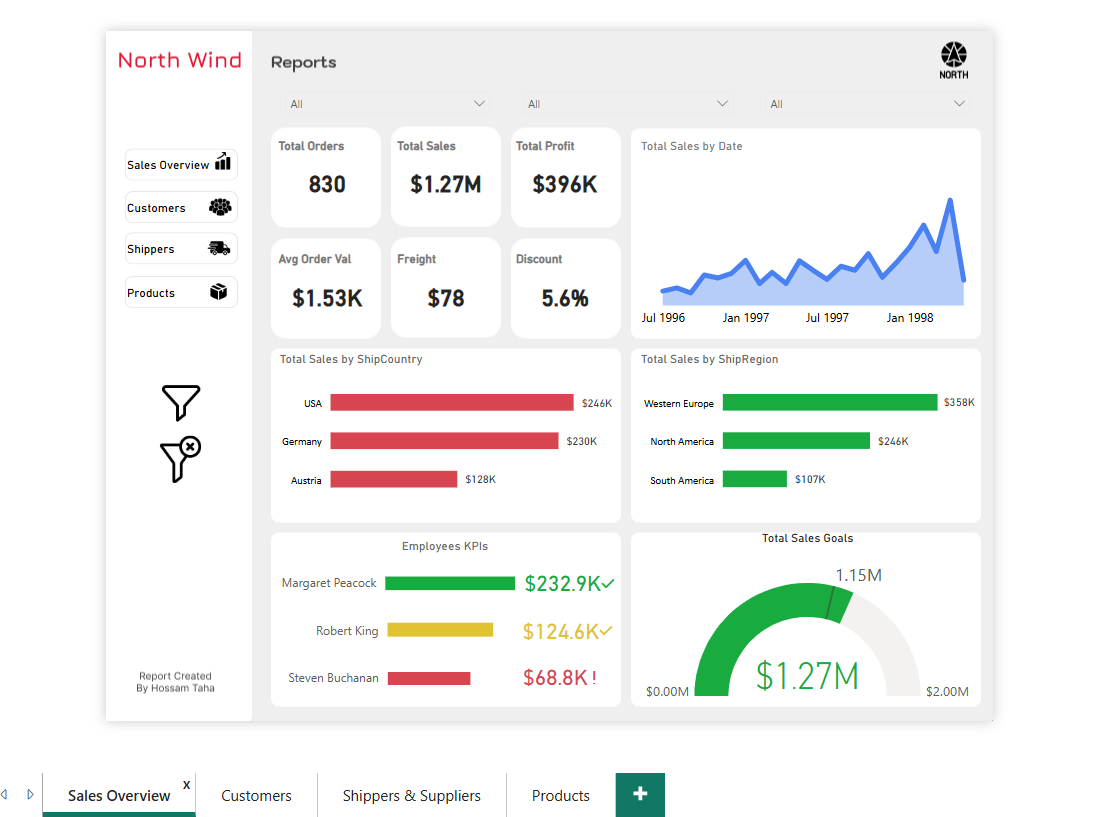

Layout of this report page (visuals, bound fields, positions):
{"tool":"powerbi","page":{"name":"Sales Overview","canvas":[887,690],"ordinal":0},"visuals":[{"type":"card","title":"Total Orders","fields":{"Values":["Orders (2).Total Orders"]},"box":[167.8,107.7,107.8,76.7],"z":0,"group":"g1"},{"type":"shape","box":[18.9,117.7,113.3,32.2],"z":0,"group":"g3"},{"type":"card","title":"Freight","fields":{"Values":["Orders (2).Avg Freight"]},"box":[286.7,221.1,107.8,76.7],"z":0},{"type":"kpi","fields":{"TrendLine":["Employees_1.FullName"],"Indicator":["Orders (2).Total Sales"],"Goal":["Orders (2).Target Sales"]},"box":[398.8,527.8,129.3,62],"z":0,"group":"g5"},{"type":"card","title":"Total Sales","fields":{"Values":["Orders (2).Total Sales"]},"box":[286.7,107.7,107.8,76.7],"z":1000,"group":"g1"},{"type":"shape","box":[18.9,161,113.3,32.2],"z":1000,"group":"g3"},{"type":"card","title":"Avg Order Val","fields":{"Values":["Orders (2).Avg Order Value"]},"box":[167.8,221.1,107.8,76.7],"z":1000},{"type":"kpi","fields":{"TrendLine":["Employees_1.FullName"],"Indicator":["Orders (2).Total Sales"],"Goal":["Orders (2).Target Sales"]},"box":[392.4,627.1,129.3,57.6],"z":1000,"group":"g5"},{"type":"card","title":"Total Profit","fields":{"Values":["Order_Details.Total Profit"]},"box":[405.6,107.7,107.8,76.7],"z":2000,"group":"g1"},{"type":"shape","box":[18.9,202.2,113.3,32.2],"z":2000,"group":"g3"},{"type":"card","title":"Discount","fields":{"Values":["Order_Details.Avg Discount"]},"box":[405.6,221.1,107.8,76.7],"z":2000},{"type":"kpi","fields":{"TrendLine":["Employees_1.FullName"],"Indicator":["Orders (2).Total Sales"],"Goal":["Orders (2).Target Sales"]},"box":[394.6,583.7,135.9,53.3],"z":2000,"group":"g5"},{"type":"group","id":"g1","title":"Group 4","box":[18.9,107.6,867.9,577.1],"z":3000},{"type":"shape","box":[18.9,245.5,113.3,32.2],"z":3000,"group":"g3"},{"type":"barChart","fields":{"Category":["Orders (2).ShipCountry"],"Y":["Orders (2).Total Sales"]},"box":[168.5,321.3,344.4,158.3],"z":3000,"group":"g1"},{"type":"barChart","fields":{"Category":["Employees_1.FullName"],"Y":["Orders (2).Total Sales"]},"box":[163.1,514.1,289.1,69.6],"z":3000,"group":"g5"},{"type":"slicer","fields":{"Values":["Orders.ShipRegion Hierarchy.ShipRegion","Orders.ShipRegion Hierarchy.ShipCountry","Orders.ShipRegion Hierarchy.ShipCity"]},"box":[168.3,50,225.8,45.8],"z":4000},{"type":"stackedAreaChart","title":"Total Sales by Date","fields":{"Category":["Orders (2).ShippedDate.Variation.Date Hierarchy.Year","Orders (2).ShippedDate.Variation.Date Hierarchy.Quarter","Orders (2).ShippedDate.Variation.Date Hierarchy.Month","Orders (2).ShippedDate.Variation.Date Hierarchy.Day"],"Y":["Orders (2).Total Sales"]},"box":[529.9,107.6,356.9,197.2],"z":4000,"group":"g1"},{"type":"image","box":[101,115.5,31.3,30.2],"z":4000,"group":"g3"},{"type":"barChart","fields":{"Category":["Employees_1.FullName"],"Y":["Orders (2).Total Sales"]},"box":[199,565.2,215.2,62],"z":4000,"group":"g5"},{"type":"slicer","fields":{"Values":["Orders.ShippedDate.Variation.Date Hierarchy.Year","Orders.ShippedDate.Variation.Date Hierarchy.Quarter","Orders.ShippedDate.Variation.Date Hierarchy.Month","Orders.ShippedDate.Variation.Date Hierarchy.Day"]},"box":[406.2,50,231.2,41.2],"z":5000},{"type":"image","box":[98,160.8,34.2,32.2],"z":5000,"group":"g3"},{"type":"barChart","fields":{"Category":["Orders (2).ShipRegion"],"Y":["Orders (2).Total Sales"]},"box":[530,322,344,158],"z":5000,"group":"g1"},{"type":"barChart","fields":{"Category":["Employees_1.FullName"],"Y":["Orders (2).Total Sales"]},"box":[170.8,610.8,213,67.4],"z":5000,"group":"g5"},{"type":"slicer","fields":{"Values":["Employees.FullName"]},"box":[648.3,50,225.8,45.8],"z":6000},{"type":"image","box":[94.1,202,38.1,32.2],"z":6000,"group":"g3"},{"type":"gauge","title":"Total Sales Goals","fields":{"Y":["Orders.Total Sales"],"TargetValue":["Orders.Goal Sales"]},"box":[530.4,500,343.5,184.8],"z":6000,"group":"g1"},{"type":"image","box":[94.1,245.3,38.1,31.2],"z":7000,"group":"g3"},{"type":"group","id":"g2","title":"Group 5","box":[32.2,344.4,84.4,113.3],"z":7000,"group":"g1"},{"type":"group","id":"g3","title":"Group 2","box":[18.9,115.5,113.3,162.2],"z":8000,"group":"g1"},{"type":"image","box":[38.9,344.4,72.2,55.6],"z":9000,"group":"g2"},{"type":"group","id":"g4","title":"Group 3","box":[163.1,500,367.4,184.8],"z":9000,"group":"g1"},{"type":"group","id":"g5","title":"Group 1","box":[163.1,514.1,367.4,170.7],"z":9000,"group":"g4"},{"type":"image","box":[32.2,401.1,84.4,56.7],"z":10000,"group":"g2"},{"type":"textbox","box":[278.3,500,122.8,34.8],"z":10000,"group":"g4"}]}

Visuals, with their boxes on the page's 887x690 design canvas (x1, y1, x2, y2). These are canvas units, not pixel positions in the 1120x817 screenshot, which may show the page scaled, cropped or inside an application window:
"Total Orders" card: rect(168, 108, 276, 184)
shape: rect(19, 118, 132, 150)
"Freight" card: rect(287, 221, 394, 298)
kpi - Employees_1.FullName x Orders (2).Total Sales: rect(399, 528, 528, 590)
"Total Sales" card: rect(287, 108, 394, 184)
shape: rect(19, 161, 132, 193)
"Avg Order Val" card: rect(168, 221, 276, 298)
kpi - Employees_1.FullName x Orders (2).Total Sales: rect(392, 627, 522, 685)
"Total Profit" card: rect(406, 108, 513, 184)
shape: rect(19, 202, 132, 234)
"Discount" card: rect(406, 221, 513, 298)
kpi - Employees_1.FullName x Orders (2).Total Sales: rect(395, 584, 530, 637)
"Group 4" group: rect(19, 108, 887, 685)
shape: rect(19, 246, 132, 278)
barChart - Orders (2).ShipCountry x Orders (2).Total Sales: rect(168, 321, 513, 480)
barChart - Employees_1.FullName x Orders (2).Total Sales: rect(163, 514, 452, 584)
slicer - Orders.ShipRegion Hierarchy.ShipRegion x Orders.ShipRegion Hierarchy.ShipCountry: rect(168, 50, 394, 96)
"Total Sales by Date" stackedAreaChart: rect(530, 108, 887, 305)
image: rect(101, 116, 132, 146)
barChart - Employees_1.FullName x Orders (2).Total Sales: rect(199, 565, 414, 627)
slicer - Orders.ShippedDate.Variation.Date Hierarchy.Year x Orders.ShippedDate.Variation.Date Hierarchy.Quarter: rect(406, 50, 637, 91)
image: rect(98, 161, 132, 193)
barChart - Orders (2).ShipRegion x Orders (2).Total Sales: rect(530, 322, 874, 480)
barChart - Employees_1.FullName x Orders (2).Total Sales: rect(171, 611, 384, 678)
slicer - Employees.FullName: rect(648, 50, 874, 96)
image: rect(94, 202, 132, 234)
"Total Sales Goals" gauge: rect(530, 500, 874, 685)
image: rect(94, 245, 132, 276)
"Group 5" group: rect(32, 344, 117, 458)
"Group 2" group: rect(19, 116, 132, 278)
image: rect(39, 344, 111, 400)
"Group 3" group: rect(163, 500, 530, 685)
"Group 1" group: rect(163, 514, 530, 685)
image: rect(32, 401, 117, 458)
textbox: rect(278, 500, 401, 535)
